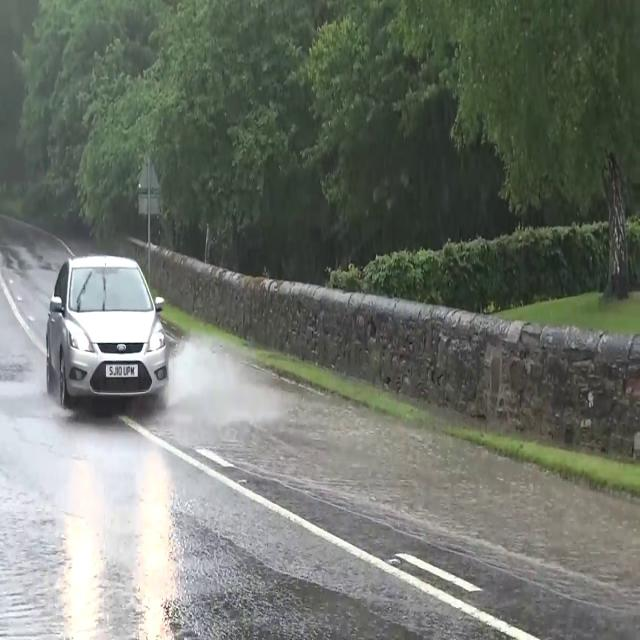license-plate-annotation: (102, 360, 144, 380)
